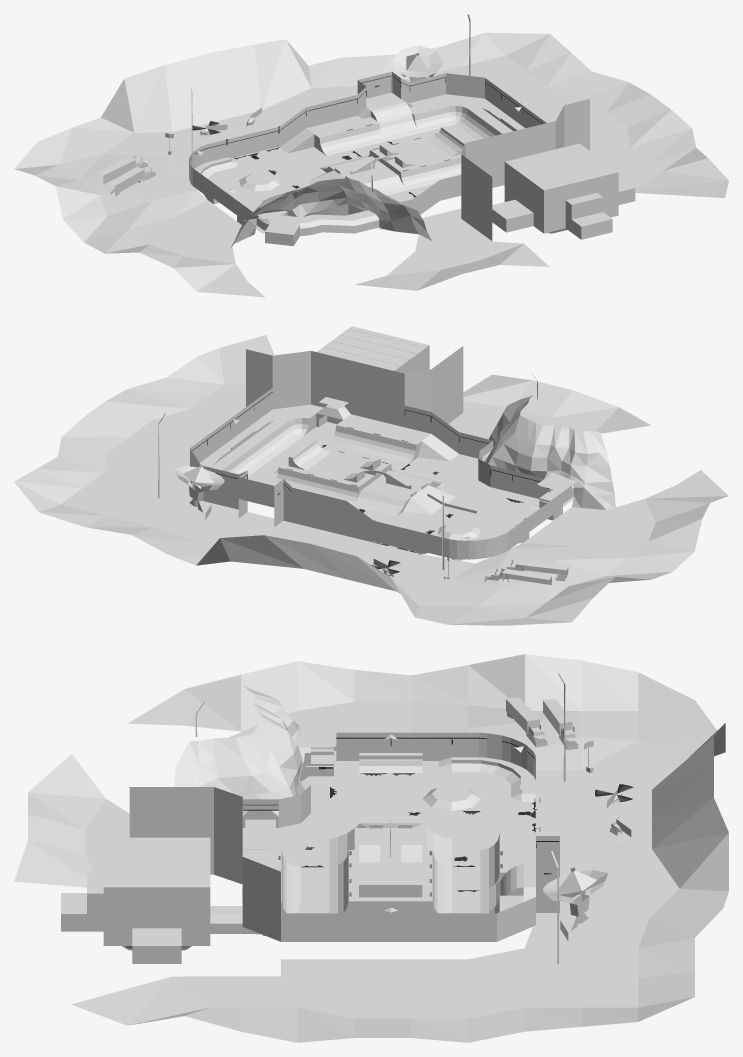
Rendered from skros.glb.
3 renders of one model, top to bottom at view 1: azimuth 30°, elevation 25°; view 2: azimuth 150°, elevation 25°; view 3: azimuth 270°, elevation 25°, orthographic. The views are drawn at different scales.
Parts seen in each view (by area): view 1: SKROS_Col_Floor, SKROS_Col_Ride, SKROS_Col_Wall, SKROS_Col_Pipe; view 2: SKROS_Col_Floor, SKROS_Col_Ride, SKROS_Col_Wall, SKROS_Col_Pipe; view 3: SKROS_Col_Floor, SKROS_Col_Ride, SKROS_Col_Wall, SKROS_Col_Pipe.
Part boxes in pixels (x1,y1,x2,y2): SKROS_Col_Floor: (14, 14, 728, 297); SKROS_Col_Ride: (189, 71, 618, 239); SKROS_Col_Wall: (103, 21, 635, 246); SKROS_Col_Pipe: (235, 95, 567, 233); SKROS_Col_Floor: (14, 326, 728, 625); SKROS_Col_Ride: (190, 345, 571, 559); SKROS_Col_Wall: (158, 329, 605, 584); SKROS_Col_Pipe: (210, 409, 540, 532); SKROS_Col_Floor: (14, 654, 728, 1042); SKROS_Col_Ride: (103, 732, 559, 945); SKROS_Col_Wall: (61, 684, 631, 963); SKROS_Col_Pipe: (122, 753, 523, 950).
Size of the model in its own units: 206 by 36.45 by 165.
Materials: 47 (46 with a texture image).
